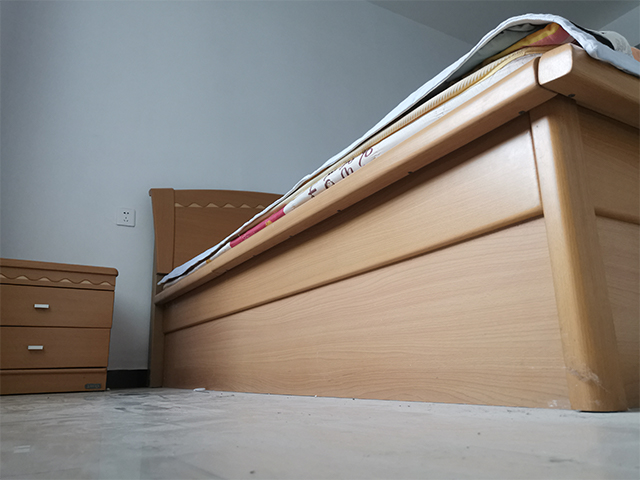bed: (143, 11, 639, 413)
cabinet: (1, 257, 121, 396)
